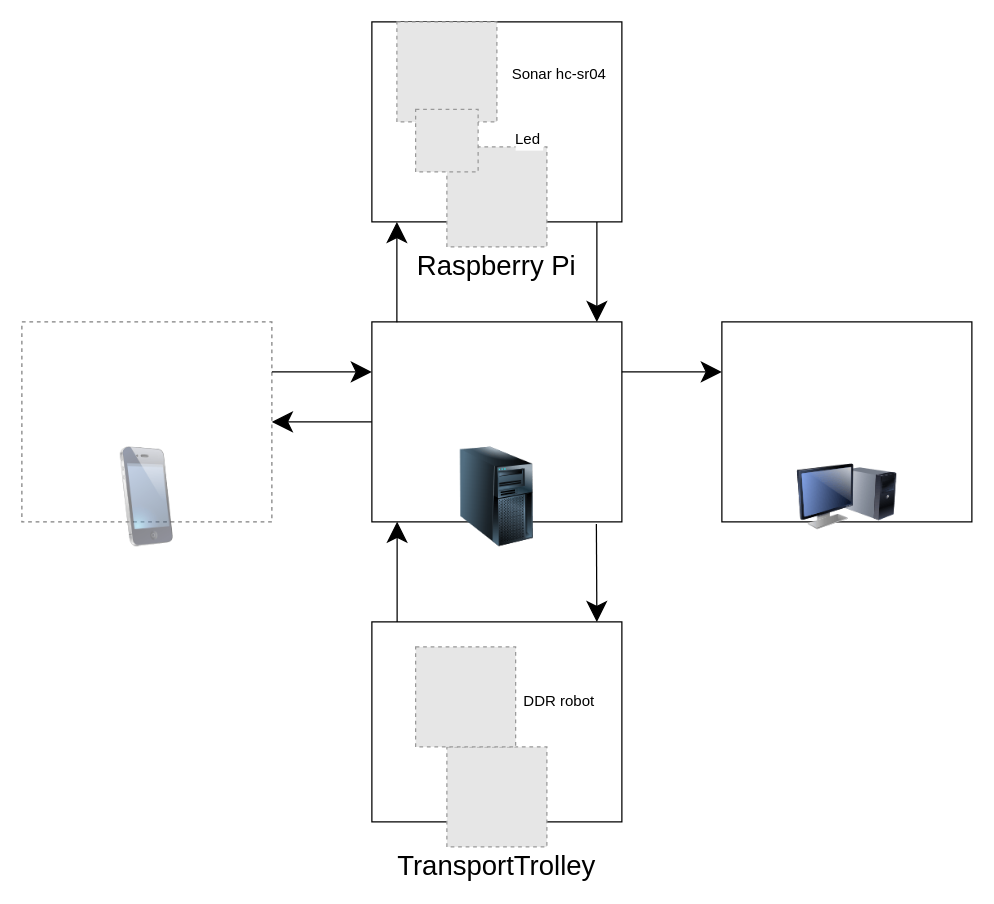
Image size: 994x904. Some labels were removed from this diagram. Grey dashed boxes stand in for pictures. The centre of each missing label's shape, as x and y in pixels:
"SmartDevice" goes at (146,496).
"WasteService" goes at (496,496).
"WasteServiceStatus" goes at (846,496).
